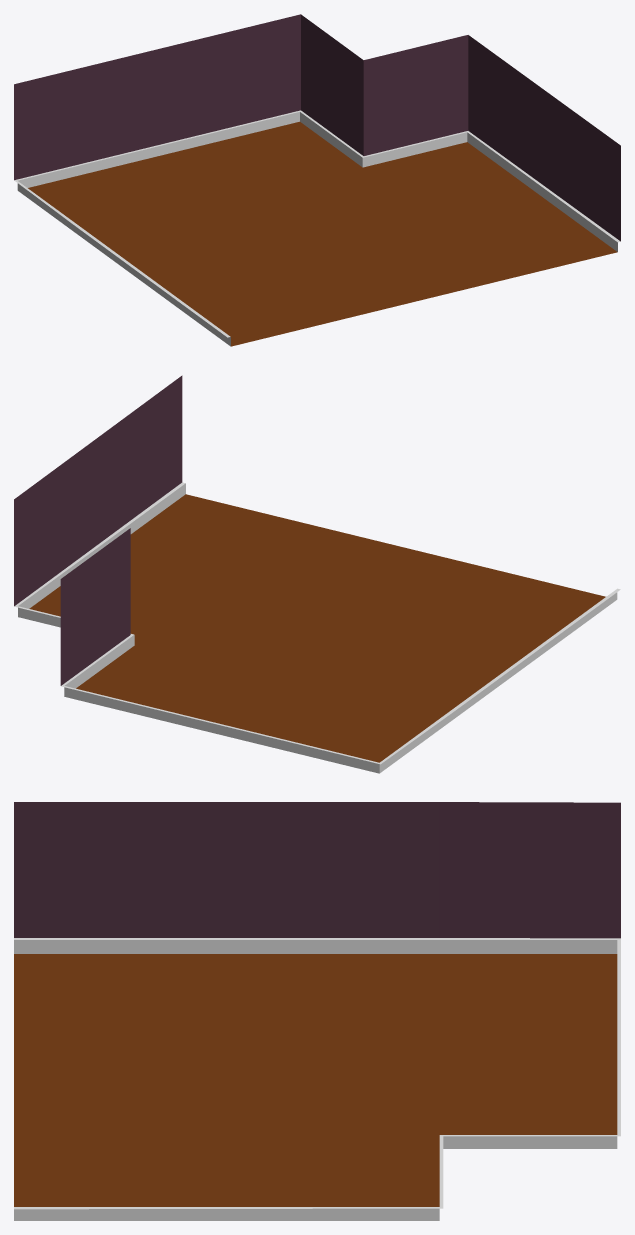
The model's file is FloorWalls 1.fbx.
3 renders of one model, top to bottom at view 1: azimuth 30°, elevation 25°; view 2: azimuth 150°, elevation 25°; view 3: azimuth 270°, elevation 25°, orthographic. The views are drawn at different scales.
Visible parts, largest first — view 1: FloorWalls; view 2: FloorWalls; view 3: FloorWalls.
Part boxes in pixels (x1,y1,x2,y2): FloorWalls: (14, 14, 620, 346); FloorWalls: (14, 375, 620, 773); FloorWalls: (14, 802, 620, 1220).
Bounding box in the file's own units: 1521 × 391 × 1438.
